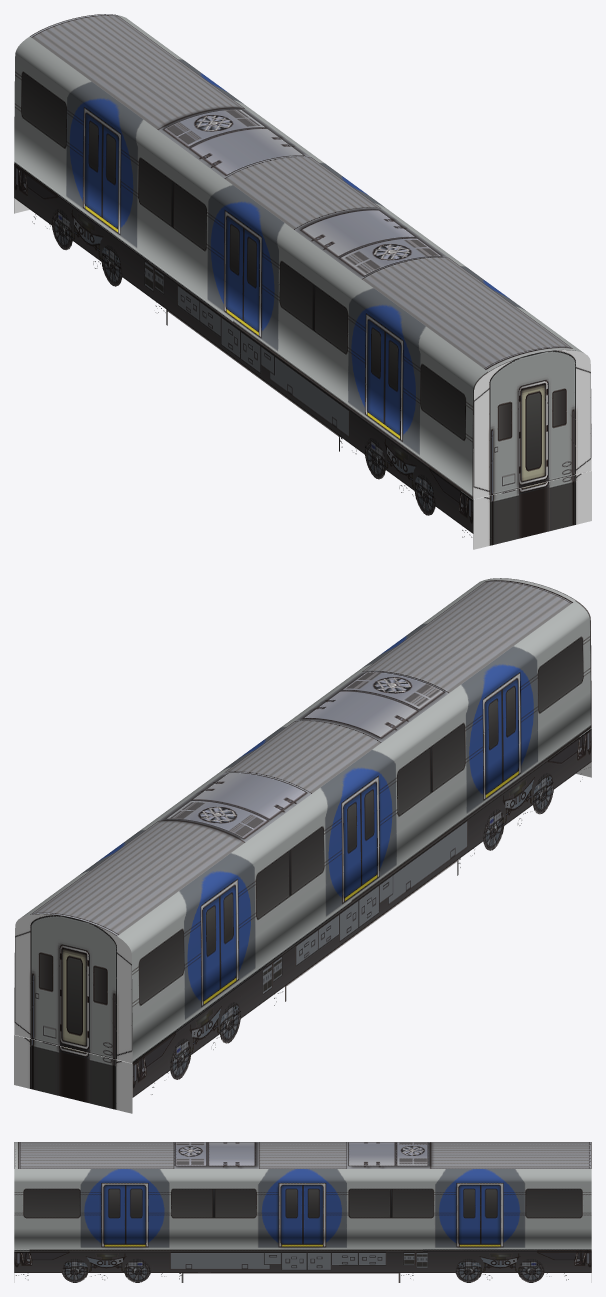
Rendered from car2.glb.
3 renders of one model, top to bottom at view 1: azimuth 30°, elevation 25°; view 2: azimuth 150°, elevation 25°; view 3: azimuth 270°, elevation 25°, orthographic. The views are drawn at different scales.
Parts seen in each view (by area): view 1: hansin-5700-car2; view 2: hansin-5700-car2; view 3: hansin-5700-car2.
Boxes of the visible parts, box(x1,y1,x2,y2) form: hansin-5700-car2: box(14, 14, 591, 549); hansin-5700-car2: box(14, 578, 591, 1113); hansin-5700-car2: box(14, 1142, 591, 1282).
Size of the model in its own units: 2.8 by 4.09 by 18.83.
9 materials, 8 textured.
